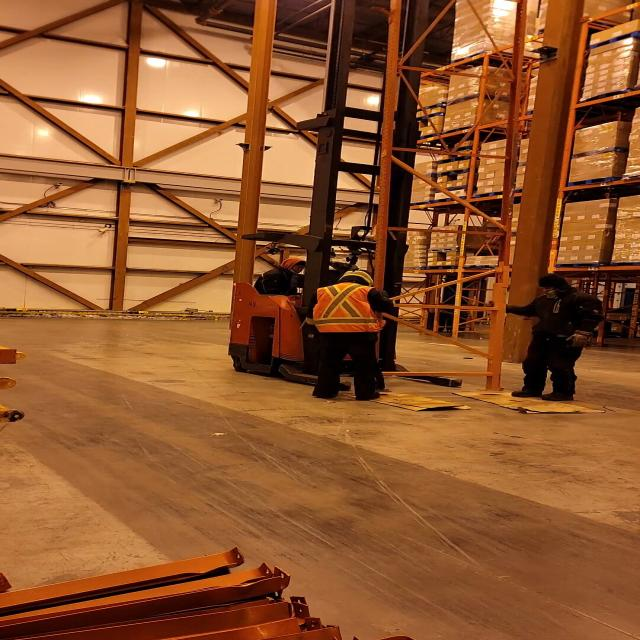forklift: (224, 112, 469, 398)
human: (502, 272, 608, 402), (307, 268, 398, 402), (251, 256, 317, 300)
objectofinterest: (378, 8, 512, 394), (448, 384, 609, 418), (338, 386, 469, 414)
